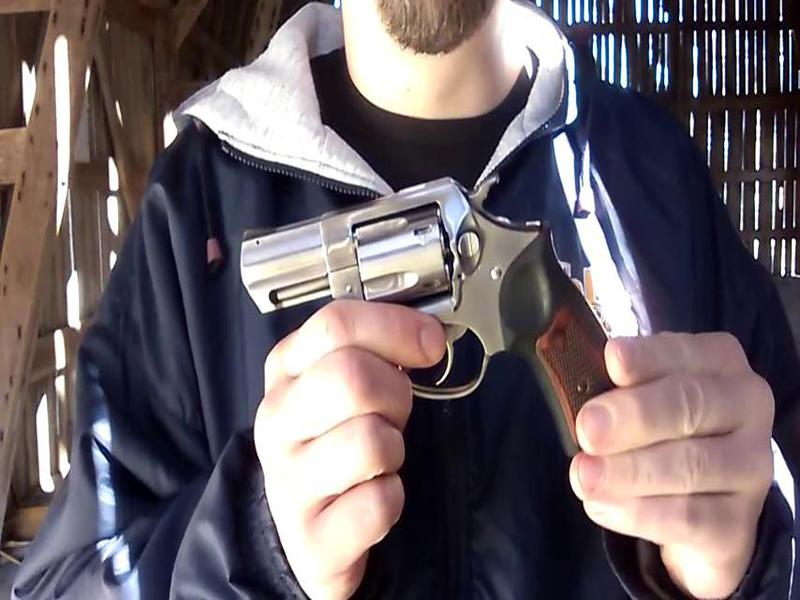Revolver: (235, 166, 626, 444)
